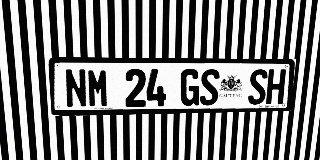2: (125, 69, 146, 107)
4: (146, 69, 167, 107)
G: (180, 69, 200, 106)
H: (266, 69, 286, 104)
M: (87, 69, 109, 108)
N: (64, 69, 88, 108)
S: (199, 69, 220, 106), (248, 69, 268, 105)
